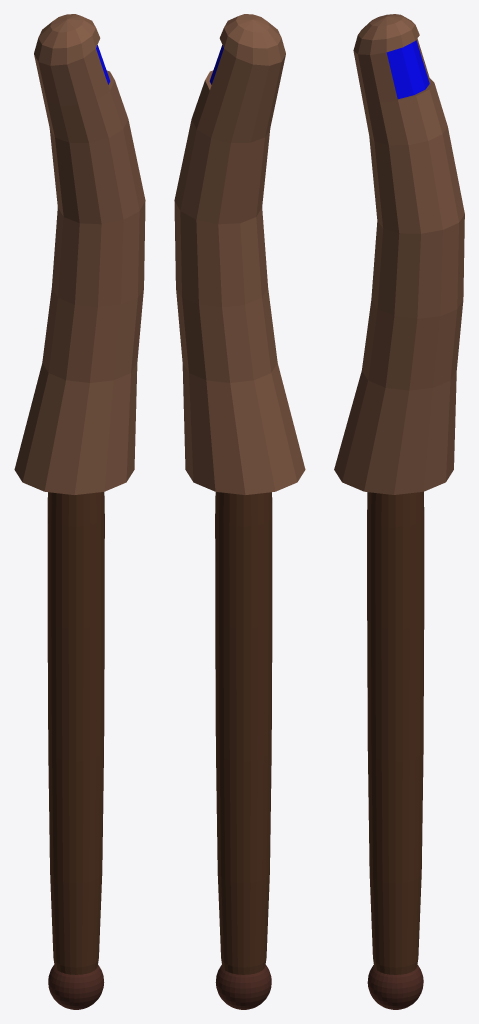
Rendered from Wand 43.glb.
3 renders of one model, left to right at view 1: azimuth 30°, elevation 25°; view 2: azimuth 150°, elevation 25°; view 3: azimuth 330°, elevation 25°, orthographic.
Parts seen in each view (by area): view 1: GeneratedWand; view 2: GeneratedWand; view 3: GeneratedWand.
Boxes of the visible parts, bbox=[...] form: GeneratedWand: bbox=[14, 14, 145, 1009]; GeneratedWand: bbox=[174, 14, 305, 1009]; GeneratedWand: bbox=[334, 14, 464, 1009].
Bounding box in the file's own units: 0.0644 × 0.52 × 0.0572.
